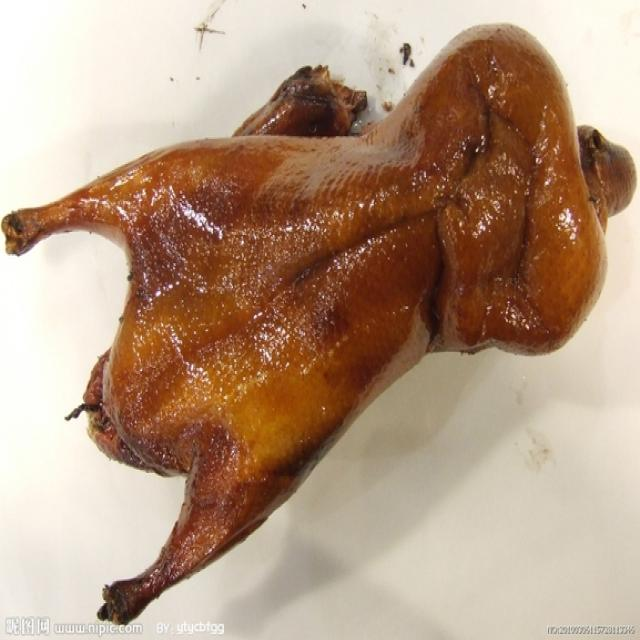烧串烤肉: (13, 18, 626, 607)
